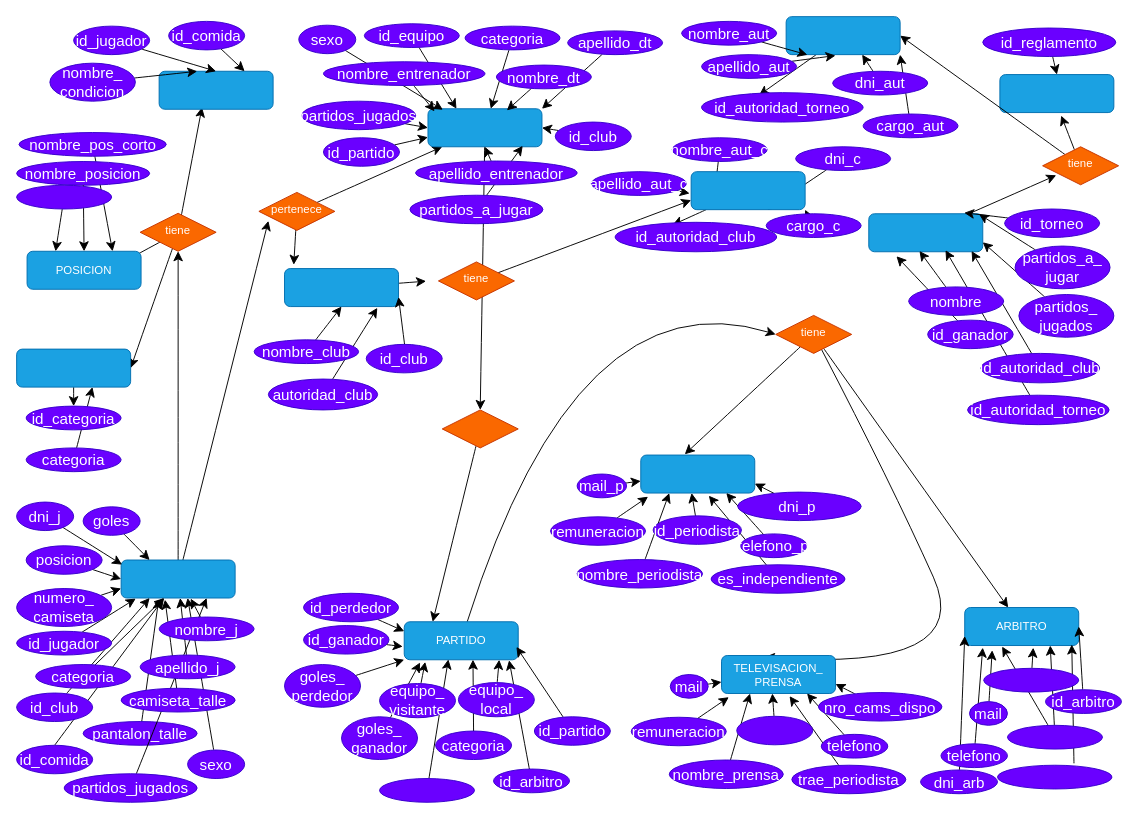
This 1138x819 diagram has some shape labels left out. The shapes that lost their labels are listed below. From the top down, each one's centre as x and y in pixels, then its label:
At (842,35): "AUTORIDAD_ TORNEO".
At (215,89): "CONDICIONES_ ALIMENTARIAS".
At (1056,93): "REGLAMENTO".
At (484,127): "EQUIPO".
At (64,196): "id_posicion".
At (747,190): "AUTORIDAD_ CLUB".
At (925,232): "TORNEO".
At (341,287): "CLUB".
At (73,367): "CATEGORIA_ JUGADOR".
At (479,428): "juega".
At (697,473): "PERIODISTA".
At (177,578): "JUGADOR".
At (1031,679): "nombre_arb".
At (774,730): "id_prensa".
At (1054,736): "apellido_arb".
At (427,790): "fecha_hora".
At (1054,776): "años_experiencia".
